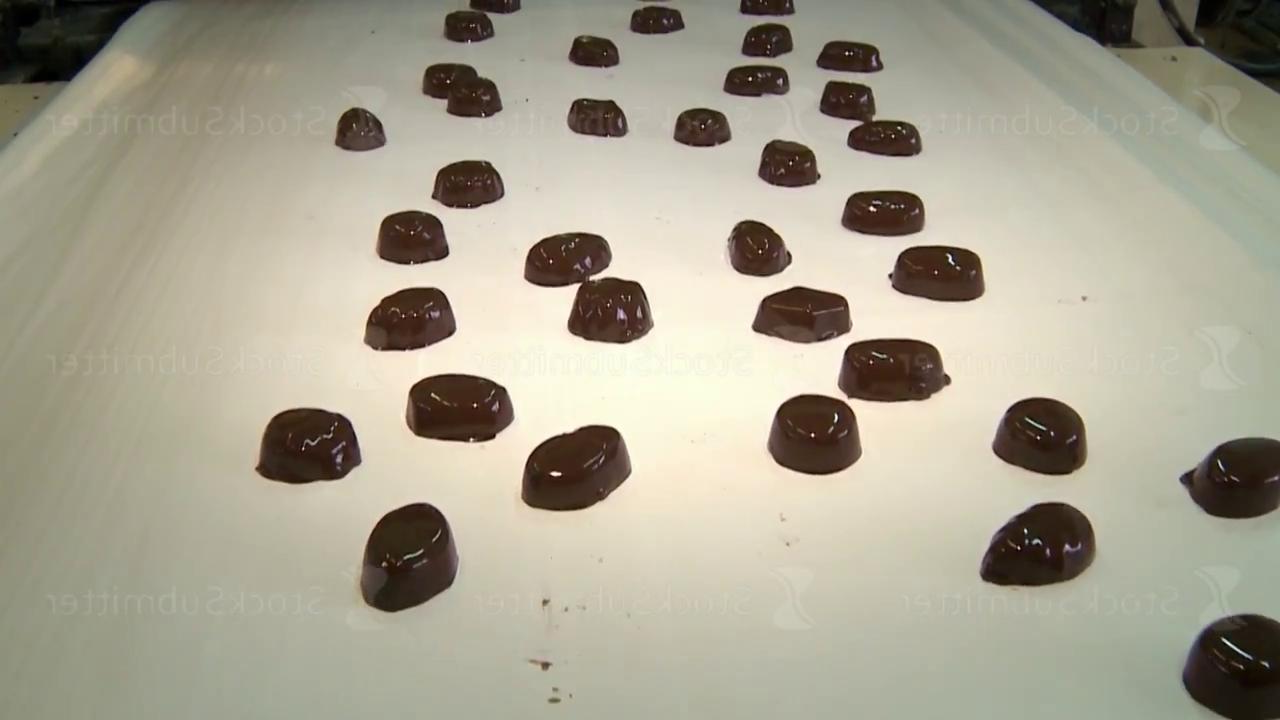chocolate: (360, 501, 459, 612), (1182, 612, 1280, 719), (980, 501, 1096, 586), (522, 423, 632, 510), (1180, 435, 1280, 519), (257, 407, 362, 483), (768, 393, 862, 474), (406, 373, 514, 442), (993, 396, 1088, 474), (839, 338, 951, 402), (364, 286, 457, 351), (568, 276, 654, 343), (753, 285, 852, 343), (890, 245, 985, 301), (524, 231, 612, 286), (377, 210, 449, 264), (842, 189, 925, 235), (727, 219, 792, 276), (432, 159, 505, 208), (759, 139, 820, 186), (848, 119, 922, 156), (568, 98, 628, 137), (447, 76, 502, 117), (335, 107, 386, 151), (674, 107, 731, 146), (820, 79, 875, 119), (817, 40, 883, 72), (724, 65, 790, 96), (742, 22, 793, 57), (569, 35, 620, 67), (445, 10, 494, 42), (630, 6, 685, 34)
